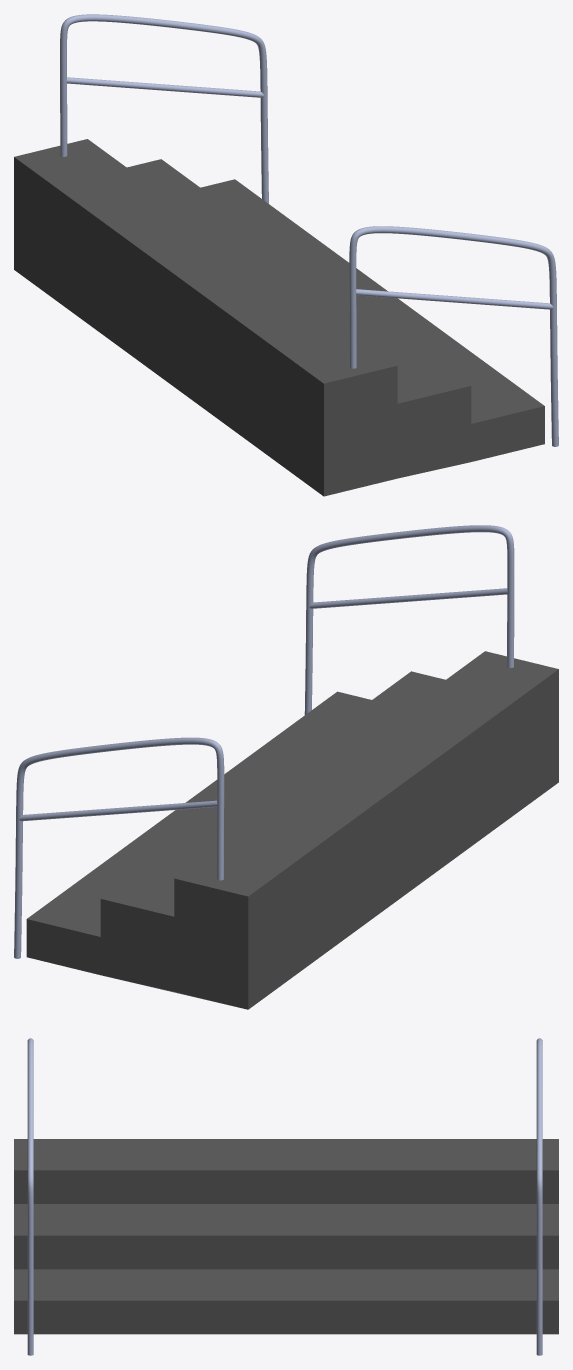
File: ScodyParking.fbx
3 views of the same model, one above another, from view 1: azimuth 30°, elevation 25°; view 2: azimuth 150°, elevation 25°; view 3: azimuth 270°, elevation 25° (orthographic). The views are drawn at different scales.
Parts seen in each view (by area): view 1: Cube, NurbsPath, NurbsPath.002, NurbsPath.001, NurbsPath.003; view 2: Cube, NurbsPath.002, NurbsPath, NurbsPath.001, NurbsPath.003; view 3: Cube, NurbsPath, NurbsPath.002.
Boxes of the visible parts, x1,y1,x2,y2 form: Cube: (14,139,544,496); NurbsPath: (349,226,558,446); NurbsPath.002: (60,14,268,203); NurbsPath.001: (356,289,553,309); NurbsPath.003: (66,77,264,97); Cube: (26,651,558,1009); NurbsPath.002: (14,737,224,958); NurbsPath: (304,525,514,714); NurbsPath.001: (309,588,507,608); NurbsPath.003: (19,800,217,821); Cube: (14,1139,558,1334); NurbsPath: (27,1038,33,1355); NurbsPath.002: (536,1038,542,1355).
Bounding box in the file's own units: 201 × 208 × 442.
